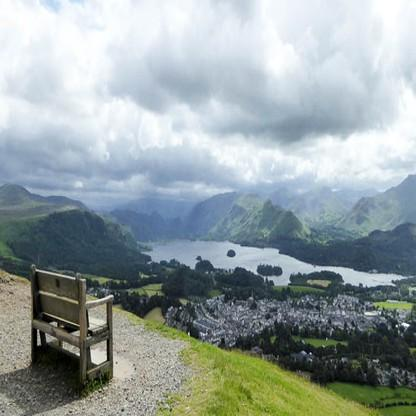obstacle: (17, 253, 124, 394)
